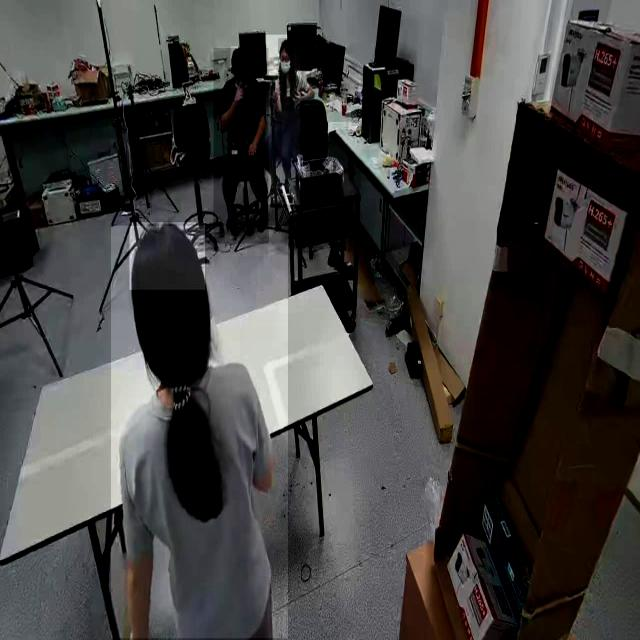hand_noglove: (234, 80, 244, 101), (246, 140, 258, 156)
head_nohelmet: (130, 222, 206, 291), (230, 46, 247, 68), (278, 38, 293, 54)
person: (111, 226, 289, 639), (213, 48, 269, 244), (265, 35, 301, 205)
